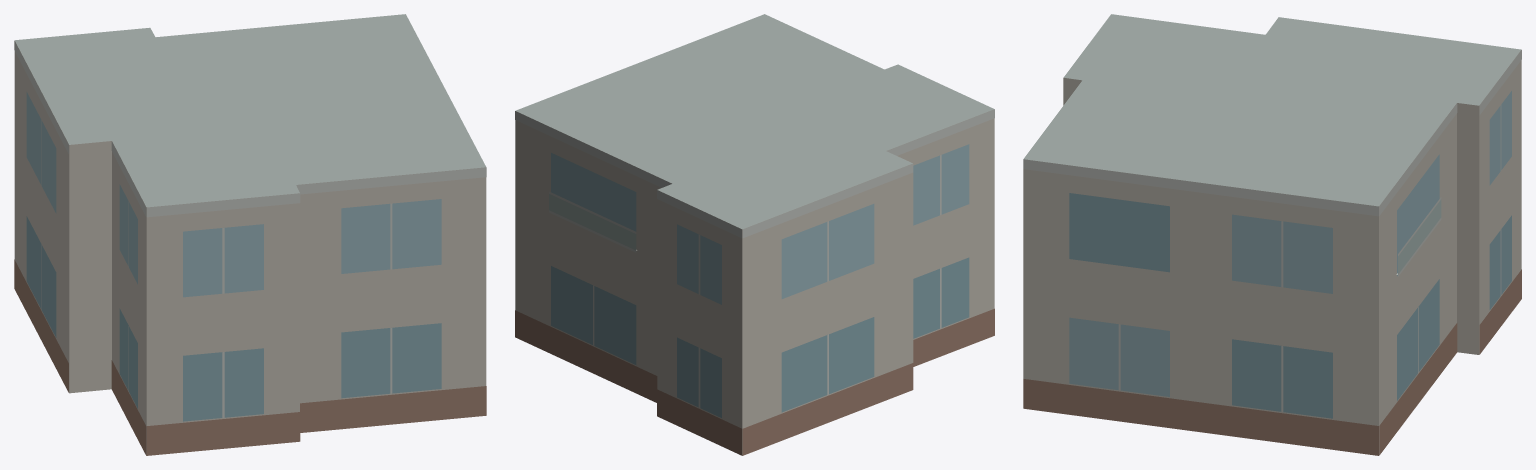
The model's file is survey-upis-32671499.glb.
3 renders of one model, left to right at view 1: azimuth 30°, elevation 25°; view 2: azimuth 150°, elevation 25°; view 3: azimuth 270°, elevation 25°, orthographic. The views are drawn at different scales.
Parts seen in each view (by area): view 1: survey-upis-32671499.tmp; view 2: survey-upis-32671499.tmp; view 3: survey-upis-32671499.tmp.
Boxes of the visible parts, x1,y1,x2,y2 form: survey-upis-32671499.tmp: [14, 14, 486, 455]; survey-upis-32671499.tmp: [515, 14, 994, 455]; survey-upis-32671499.tmp: [1023, 14, 1521, 455].
Size of the model in its own units: 10.1 by 6.1 by 11.06.
